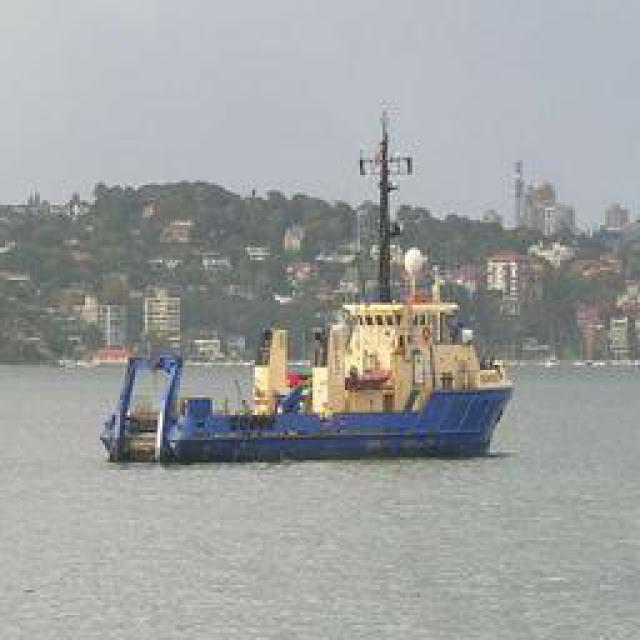Ship: (100, 296, 521, 470)
